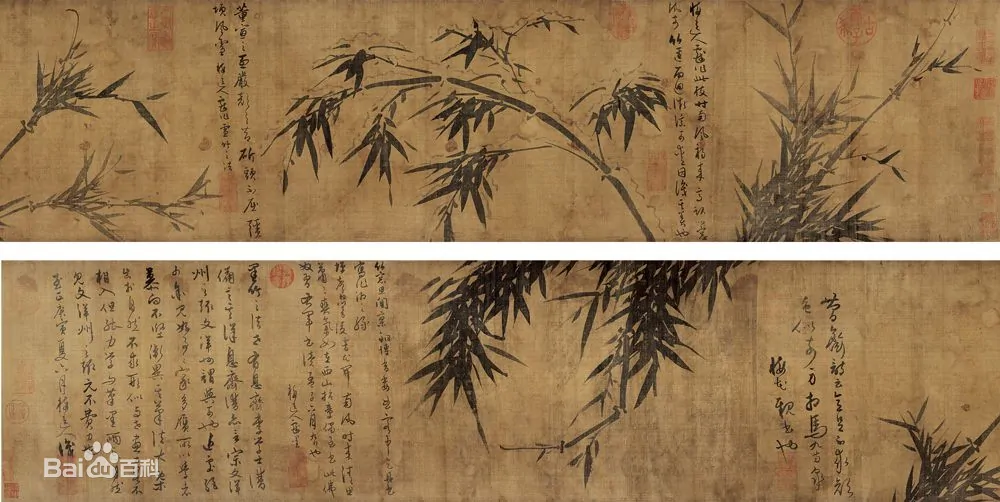bamboo: (285, 16, 662, 234), (400, 263, 749, 488), (735, 9, 972, 244), (22, 15, 229, 236), (870, 385, 1000, 502)
